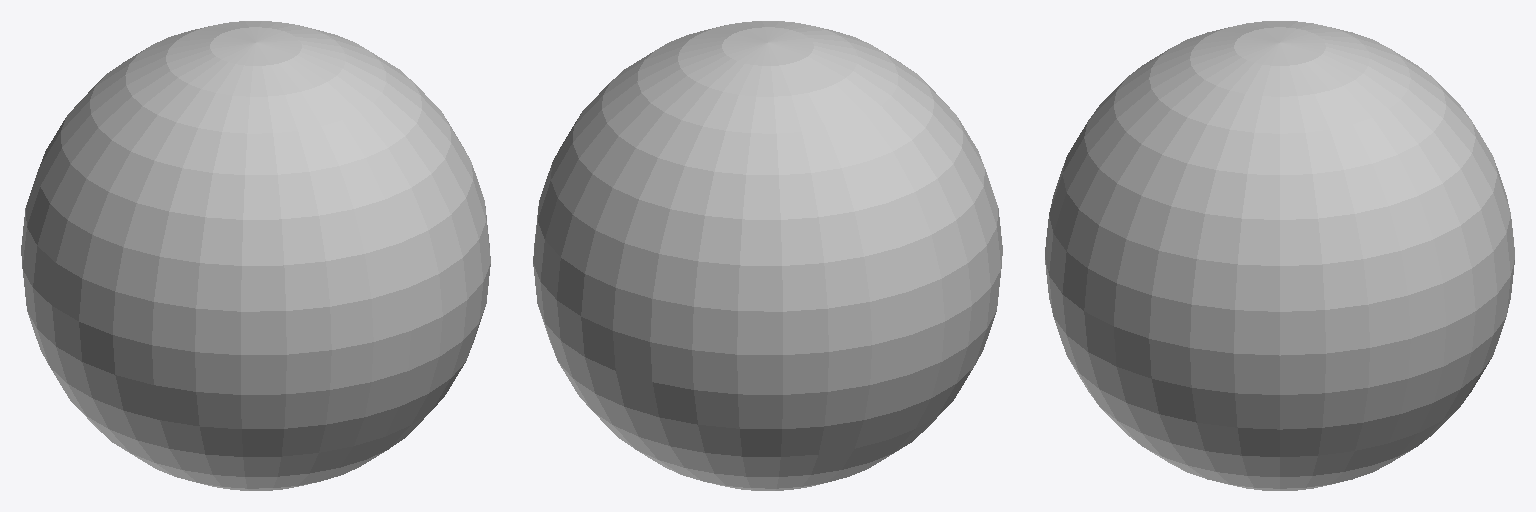
File: tri_metBall.obj
3 views of the same model, side by side, from view 1: azimuth 30°, elevation 25°; view 2: azimuth 150°, elevation 25°; view 3: azimuth 270°, elevation 25° (orthographic).
Visible parts, largest first — view 1: Sphere; view 2: Sphere; view 3: Sphere.
Boxes of the visible parts, x1,y1,x2,y2 form: Sphere: [21, 21, 490, 490]; Sphere: [533, 21, 1002, 490]; Sphere: [1045, 21, 1514, 490].
Size of the model in its own units: 2.62 by 2.62 by 2.62.